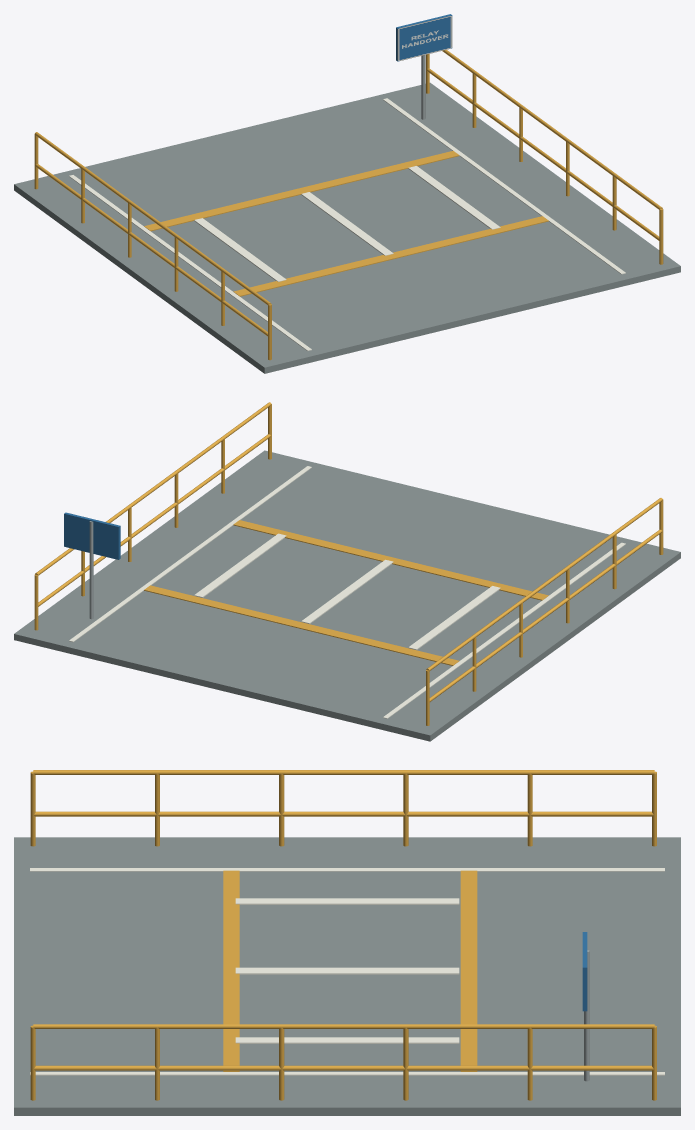
Rendered from scendance-plan-relay-handover.glb.
3 views of the same model, one above another, from view 1: azimuth 30°, elevation 25°; view 2: azimuth 150°, elevation 25°; view 3: azimuth 270°, elevation 25° (orthographic). The views are drawn at different scales.
Size of the model in its own units: 7 by 1.67 by 7.3.
7 materials, 1 textured.
